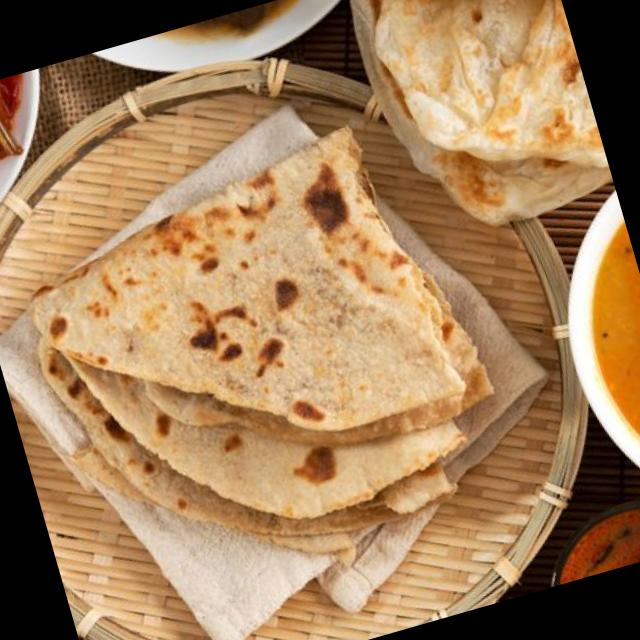roti: (27, 114, 498, 554)
